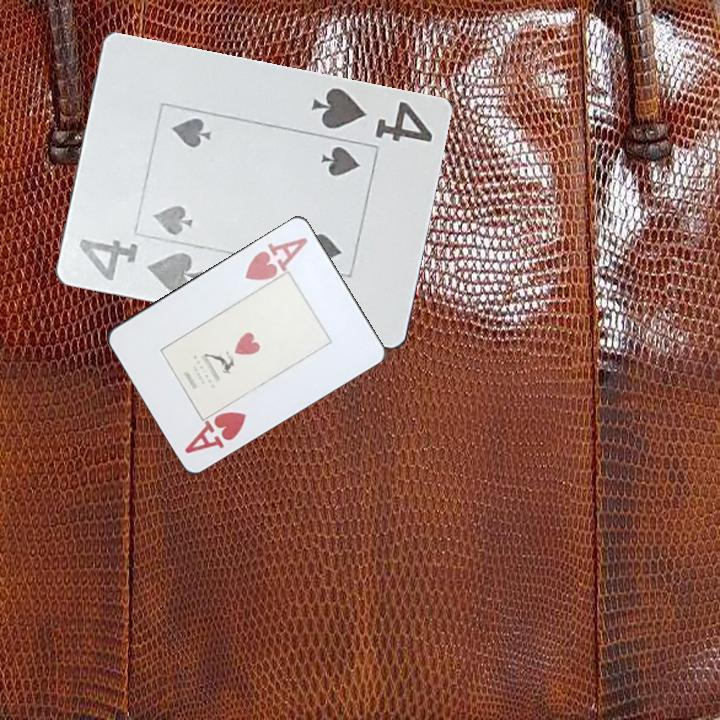4s: (75, 234, 204, 297), (309, 83, 436, 145)
Ah: (240, 234, 311, 284), (181, 407, 249, 456)
